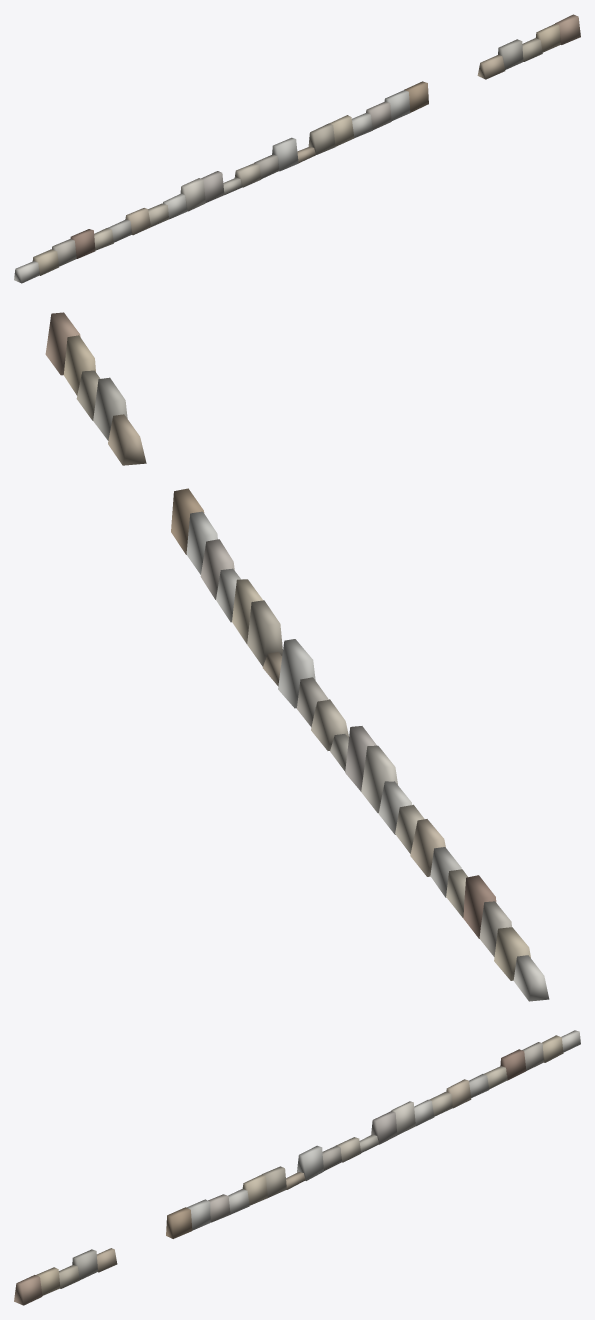
File: farm_-58_-47_far.glb
The picture shows the model from 3 angles, top to bottom: view 1: azimuth 90°, elevation 25°; view 2: azimuth 150°, elevation 25°; view 3: azimuth 270°, elevation 25°; orthographic projection. The views are drawn at different scales.
Parts seen in each view (by area): view 1: geometry_0; view 2: geometry_0; view 3: geometry_0.
Boxes of the visible parts, left/top/right/bottom form: geometry_0: left=14, top=14, right=580, bottom=283; geometry_0: left=45, top=312, right=549, bottom=1001; geometry_0: left=14, top=1030, right=580, bottom=1305.
Bounding box in the file's own units: 35.53 × 1.77 × 33.13.
